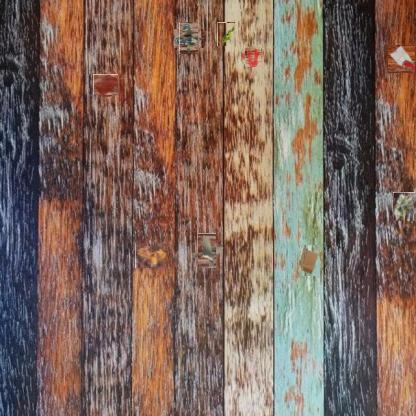dirty: (388, 45, 416, 73), (135, 246, 168, 268), (298, 244, 320, 276), (194, 238, 221, 264), (176, 26, 202, 51), (394, 192, 416, 221), (217, 22, 235, 46)
liquid: (94, 73, 117, 96), (243, 47, 263, 65)
